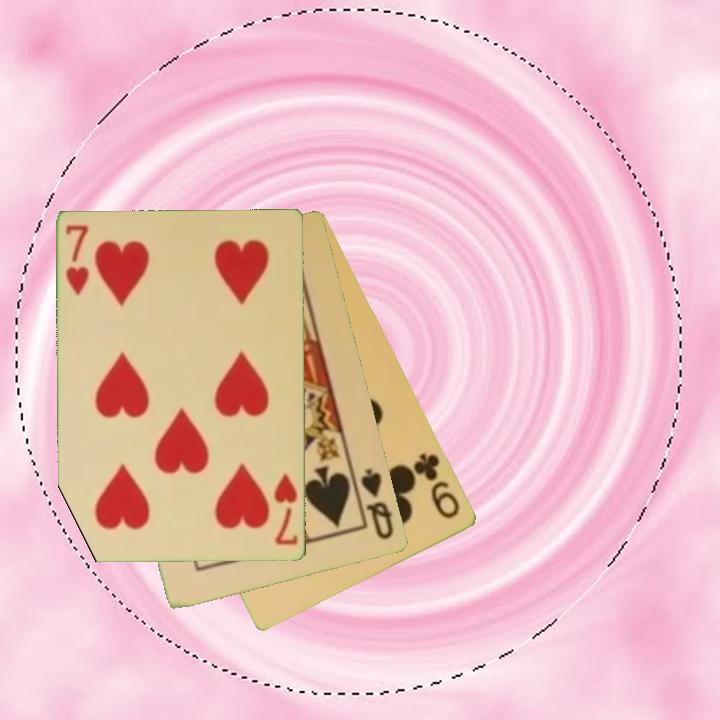7h: (271, 471, 301, 549), (62, 221, 92, 298)
9c: (410, 449, 464, 522)
Qs: (358, 464, 397, 543)
